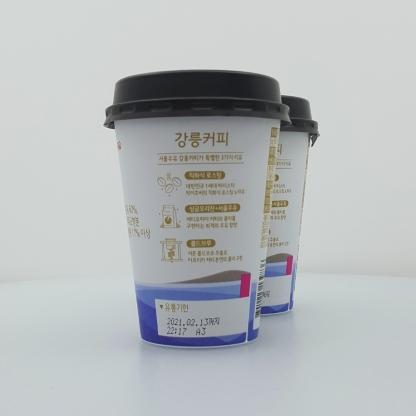----------250ML: (104, 70, 294, 348)
